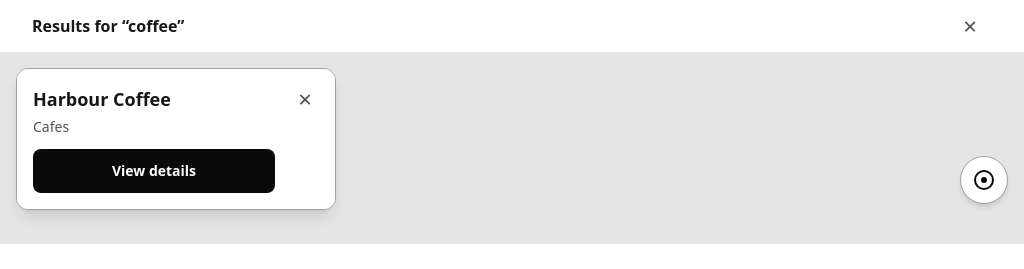
search results on the map (SEARCH-03) › Clear search goes back to the whole map and keeps the selected place
The image size is (1024, 269).
Click the button named "Clear search": point(970, 26) [948,4,992,48]
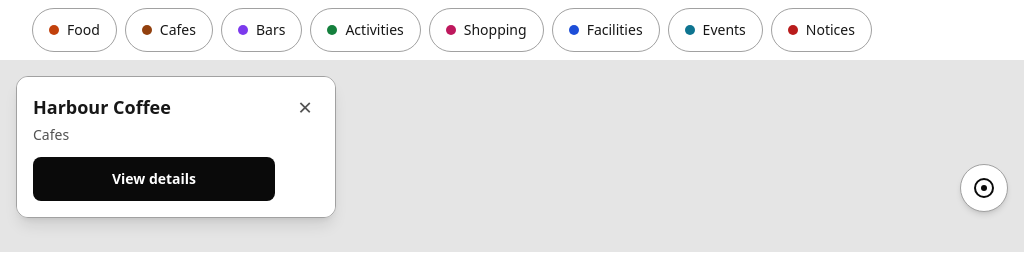
Expected: the element named "Filters" is shown, [32,8,872,52]
